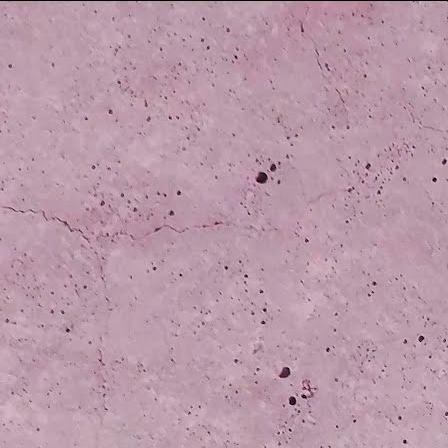crack: (0, 181, 150, 448), (288, 0, 350, 119), (93, 215, 283, 246), (395, 101, 448, 142)
